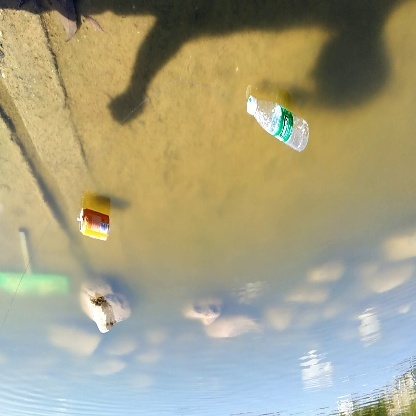bottle: (240, 86, 316, 157)
